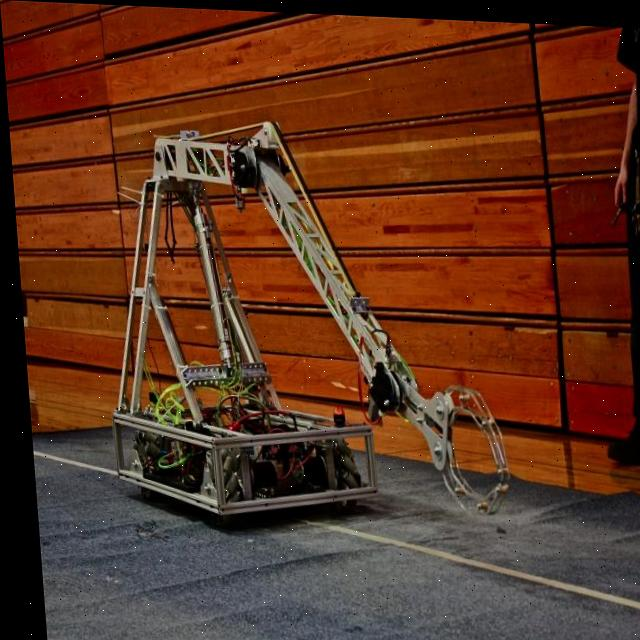robot: (45, 85, 538, 588)
